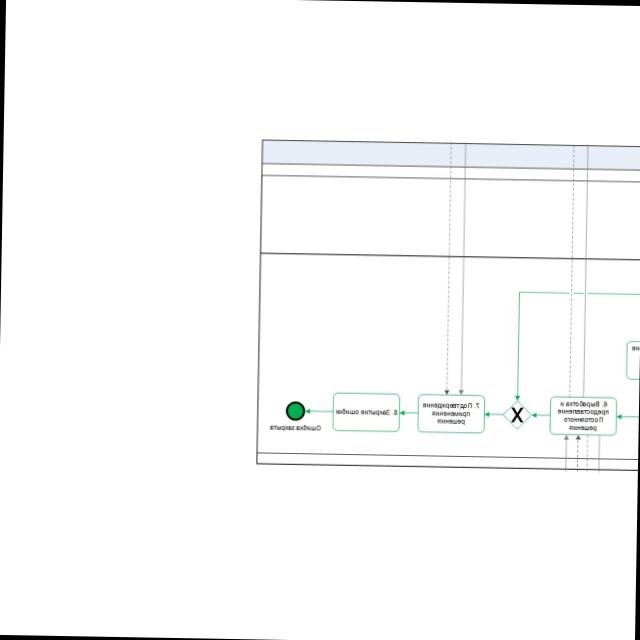arrow: (305, 408, 333, 414), (484, 410, 504, 418), (399, 408, 418, 416), (531, 412, 550, 418)
circle: (285, 402, 304, 420)
diamond: (503, 402, 530, 428)
rectangle: (417, 394, 484, 433), (332, 393, 399, 432), (550, 397, 616, 435)
text_region: (268, 422, 321, 432)
